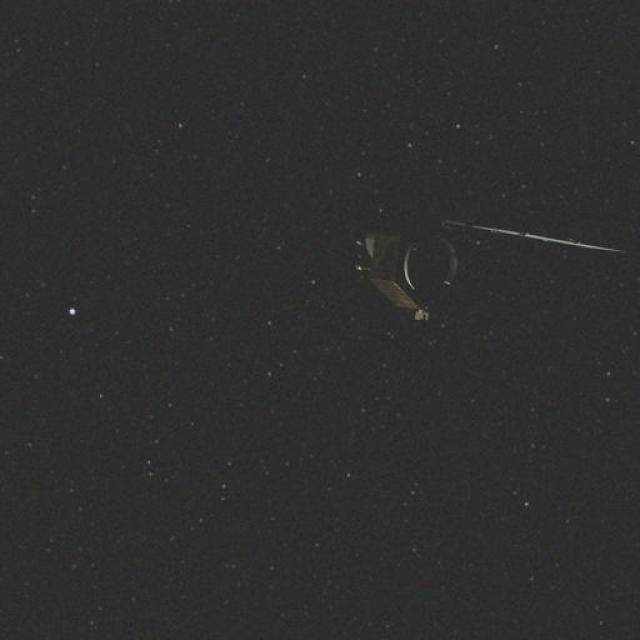earth_observation_sat_1: (325, 210, 630, 339)
